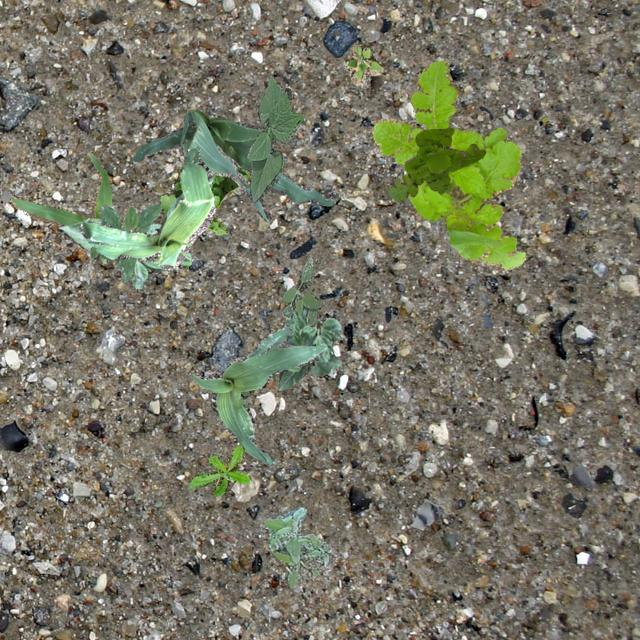crop: (130, 107, 338, 220), (192, 322, 326, 464), (78, 148, 214, 268), (9, 148, 110, 264), (58, 218, 190, 288), (246, 75, 302, 202), (276, 307, 340, 388)
weed: (372, 58, 524, 270), (386, 127, 484, 200), (158, 164, 250, 234), (90, 202, 160, 282), (264, 506, 330, 586), (188, 444, 250, 496), (280, 256, 322, 326), (342, 44, 382, 84)
